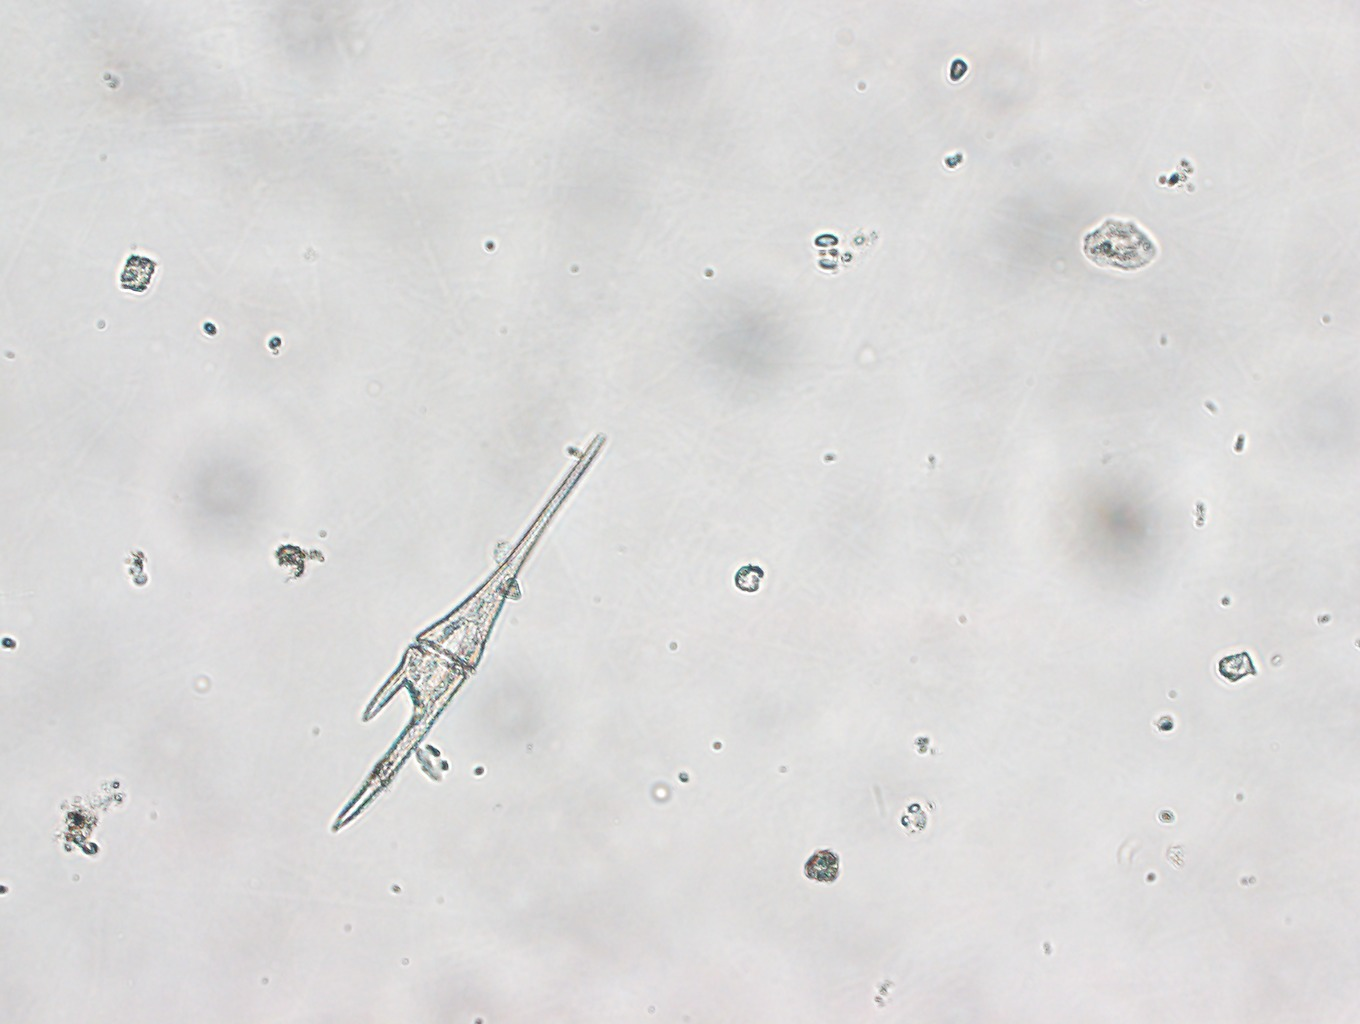ceratium furca: (323, 424, 610, 839)
